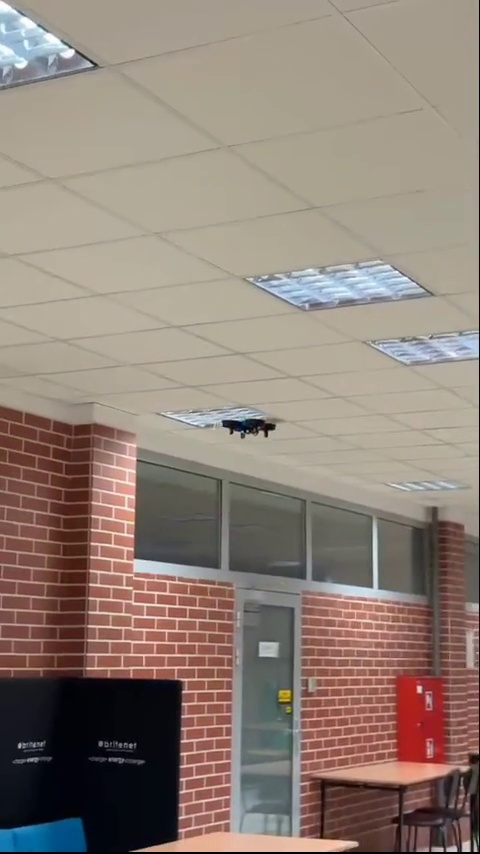drone: (218, 413, 277, 439)
